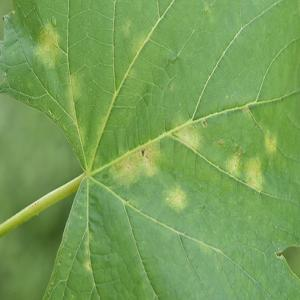Folha: (0, 0, 299, 299)
Fungo: (109, 139, 162, 189), (31, 16, 59, 70), (174, 117, 202, 151), (243, 154, 264, 192), (140, 140, 161, 177), (165, 182, 189, 213), (64, 73, 83, 102), (225, 147, 243, 175), (133, 28, 149, 56), (263, 133, 277, 154), (242, 106, 251, 116), (202, 117, 208, 129), (235, 147, 242, 157), (87, 260, 92, 273), (217, 138, 224, 146), (275, 250, 282, 256), (140, 148, 144, 156)
